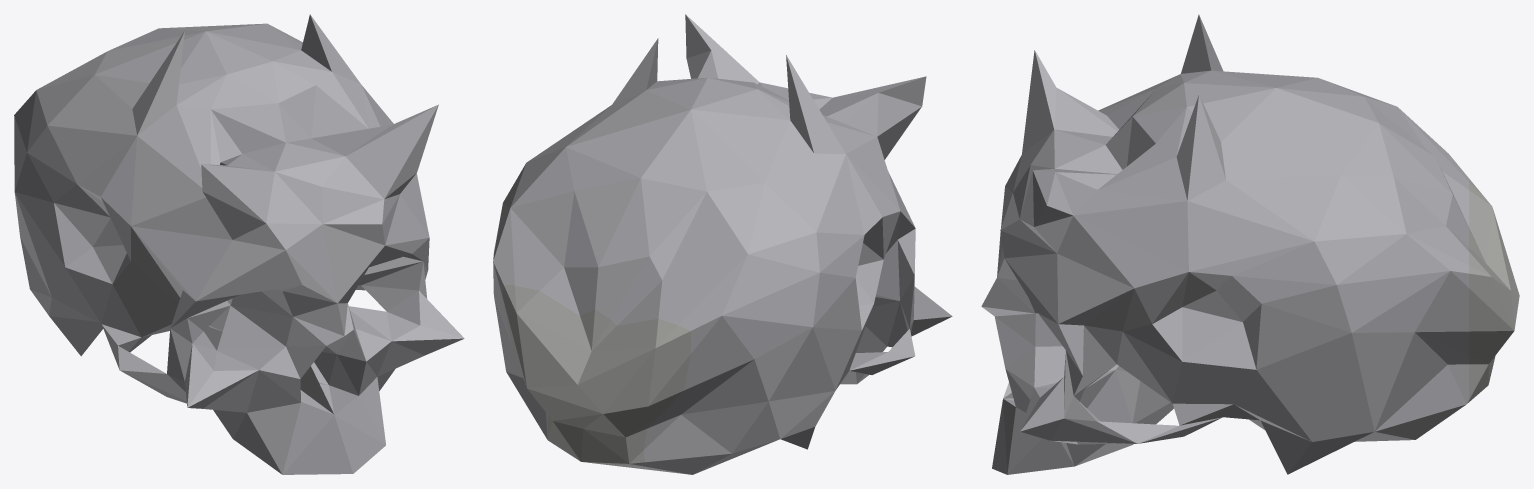
Rendered from YN_Skull5.fbx.
3 renders of one model, left to right at view 1: azimuth 30°, elevation 25°; view 2: azimuth 150°, elevation 25°; view 3: azimuth 270°, elevation 25°, orthographic. The views are drawn at different scales.
Parts seen in each view (by area): view 1: YN_Skull5; view 2: YN_Skull5; view 3: YN_Skull5.
Boxes of the visible parts, x1,y1,x2,y2 form: YN_Skull5: (14,14,464,474); YN_Skull5: (493,14,952,474); YN_Skull5: (981,14,1519,474).
Bounding box in the file's own units: 5.91 × 7 × 8.18.
